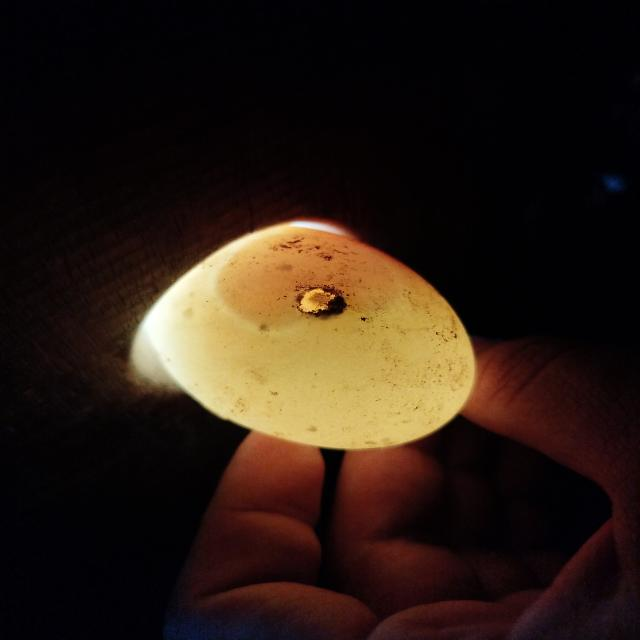Camara de Ar: (217, 227, 399, 329)
